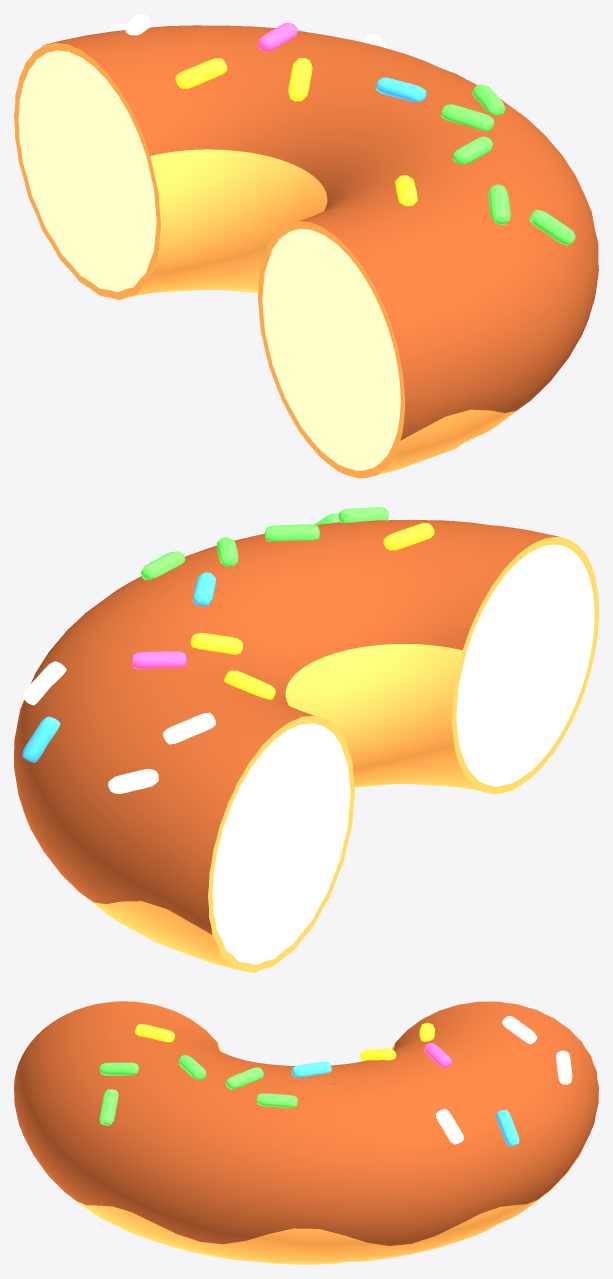
3 views of the same model, one above another, from view 1: azimuth 30°, elevation 25°; view 2: azimuth 150°, elevation 25°; view 3: azimuth 270°, elevation 25° (orthographic). The views are drawn at different scales.
Visible parts, largest first — view 1: Donut-right; view 2: Donut-right; view 3: Donut-right.
Boxes of the visible parts, <box> form: Donut-right: <box>14,14,598,478</box>; Donut-right: <box>14,507,598,972</box>; Donut-right: <box>14,1001,598,1264</box>.
Size of the model in its own units: 0.0367 by 0.0257 by 0.0739.
